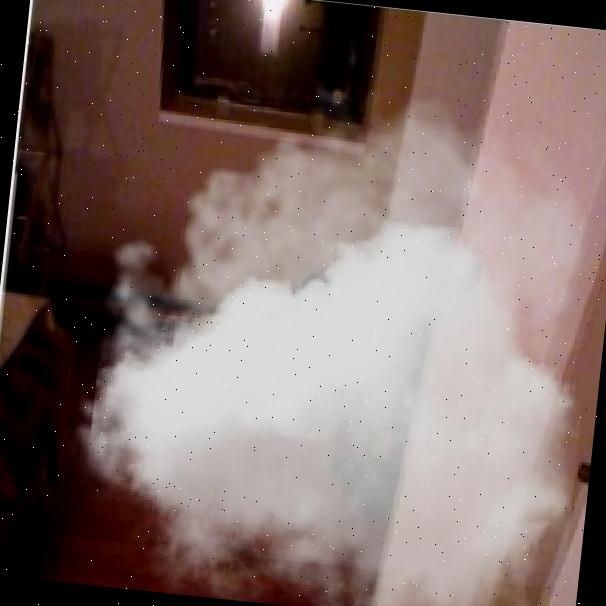smoke: (44, 46, 606, 606)
